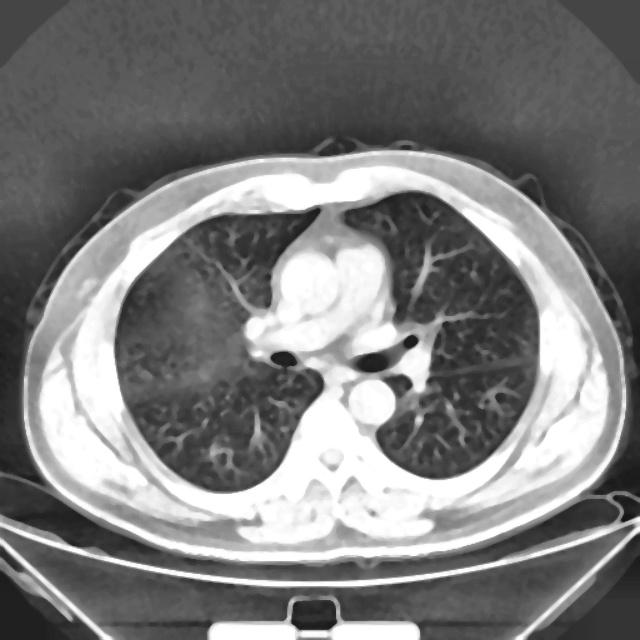covid: (21, 141, 631, 566)
